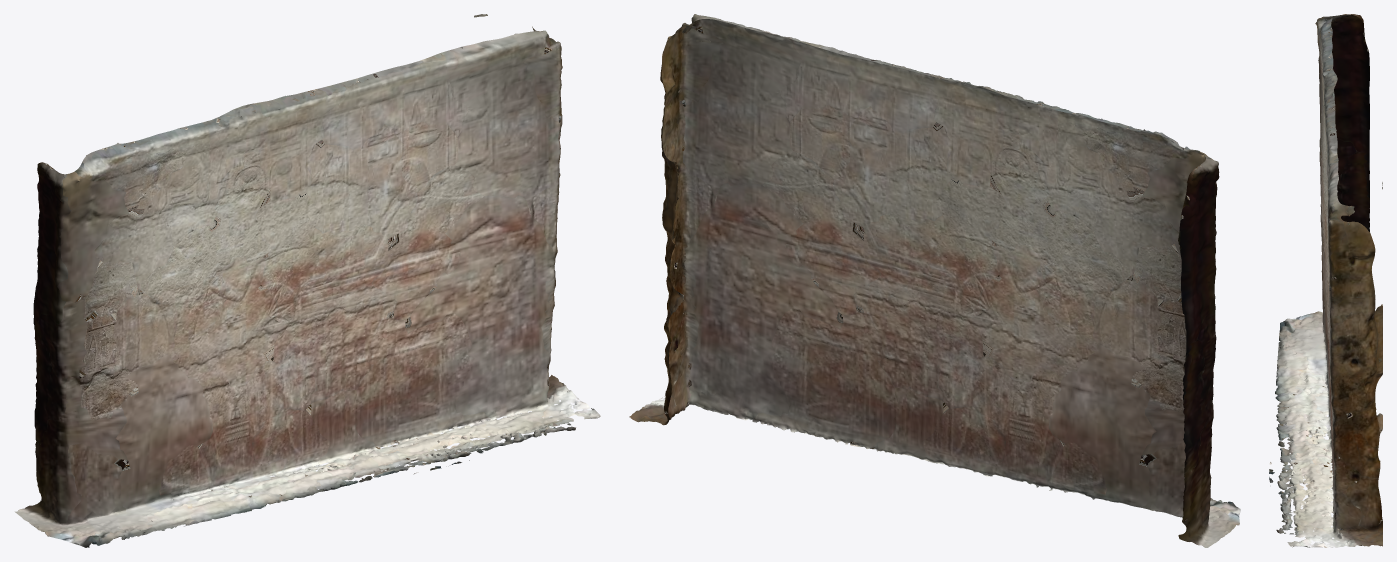
The model's file is estela-ramses.glb.
3 renders of one model, left to right at view 1: azimuth 30°, elevation 25°; view 2: azimuth 150°, elevation 25°; view 3: azimuth 270°, elevation 25°, orthographic. The views are drawn at different scales.
Visible parts, largest first — view 1: Object_2; view 2: Object_2; view 3: Object_2.
Boxes of the visible parts, x1,y1,x2,y2 form: Object_2: [14, 14, 600, 547]; Object_2: [629, 14, 1240, 547]; Object_2: [1269, 14, 1382, 547].
Size of the model in its own units: 1.72 by 1.15 by 0.3551.
Materials: 1 (1 with a texture image).
